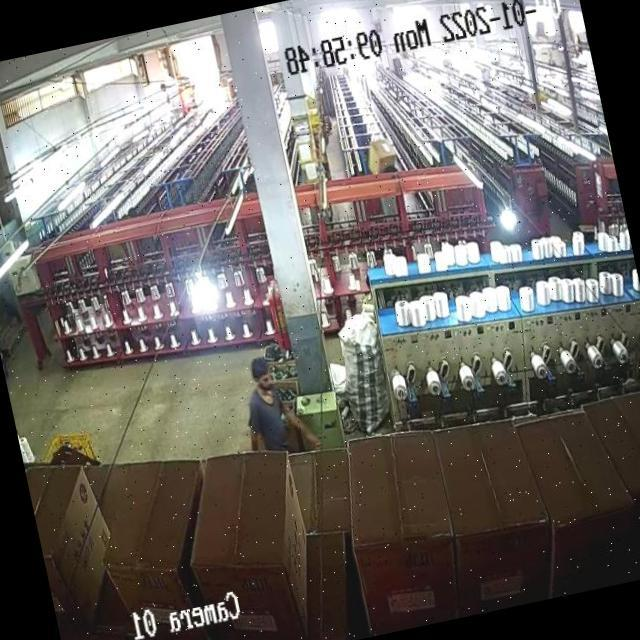person: (237, 350, 291, 452)
